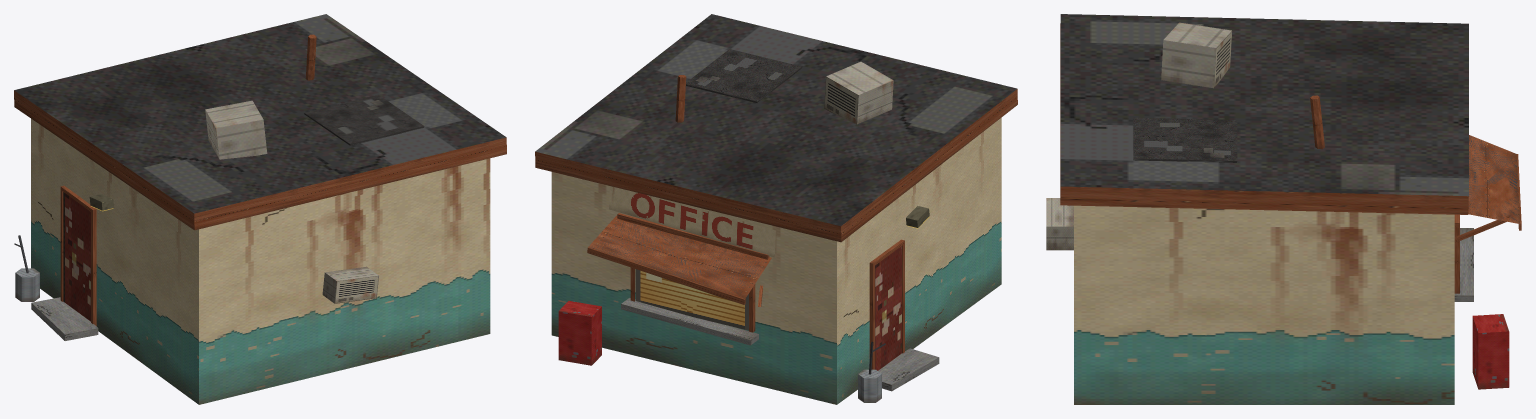
File: Reception.fbx
3 renders of one model, left to right at view 1: azimuth 30°, elevation 25°; view 2: azimuth 150°, elevation 25°; view 3: azimuth 270°, elevation 25°, orthographic. The views are drawn at different scales.
Visible parts, largest first — view 1: Reception; view 2: Reception; view 3: Reception.
Part boxes in pixels (x1=…): Reception: x1=14, y1=14, x2=506, y2=404; Reception: x1=535, y1=14, x2=1017, y2=404; Reception: x1=1046, y1=14, x2=1521, y2=404.
Size of the model in its own units: 6.37 by 4.28 by 6.87.
